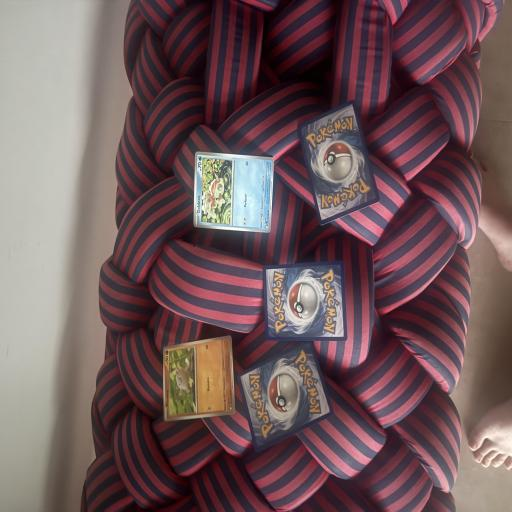card: (189, 151, 276, 233), (163, 336, 236, 421)
